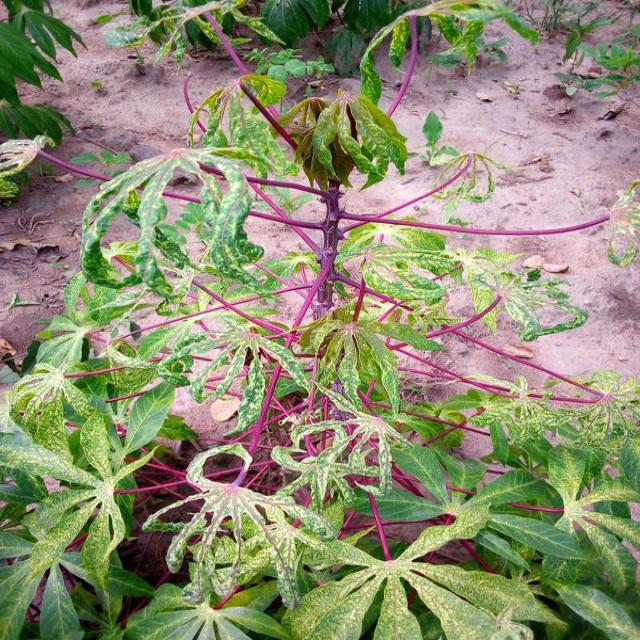cassava leaf: (1, 3, 638, 638)
